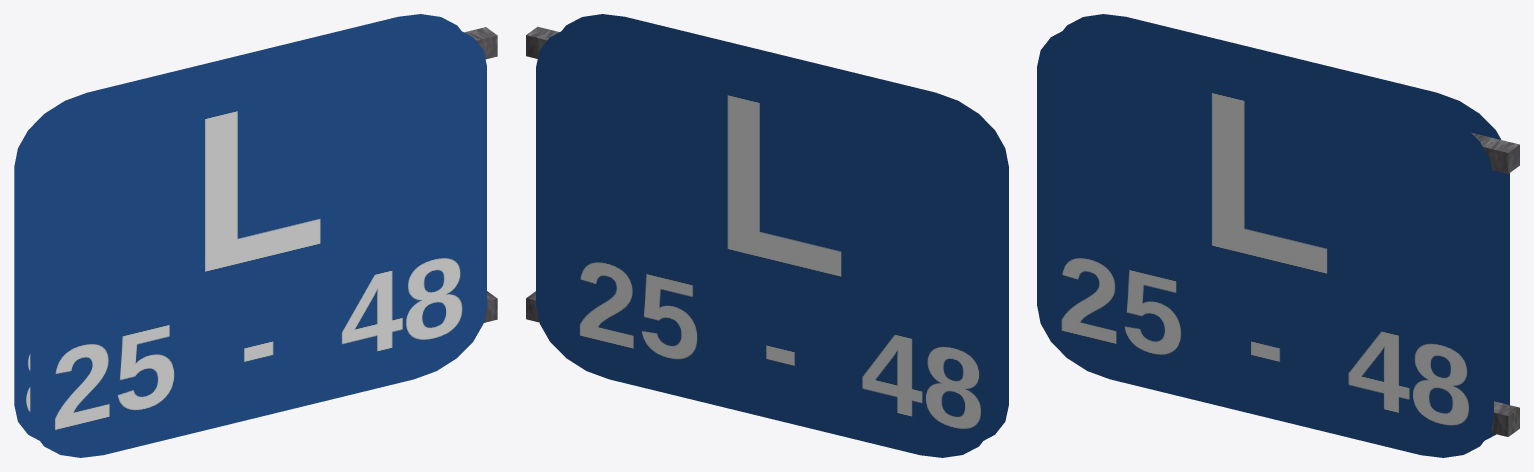
3 views of the same model, side by side, from view 1: azimuth 30°, elevation 25°; view 2: azimuth 150°, elevation 25°; view 3: azimuth 330°, elevation 25° (orthographic).
Visible parts, largest first — view 1: Cube; view 2: Cube; view 3: Cube.
Boxes of the visible parts, x1,y1,x2,y2 form: Cube: [14, 14, 497, 457]; Cube: [526, 14, 1008, 457]; Cube: [1037, 14, 1519, 457].
Size of the model in its own units: 0.9334 by 0.667 by 0.055.
2 materials, 2 textured.
